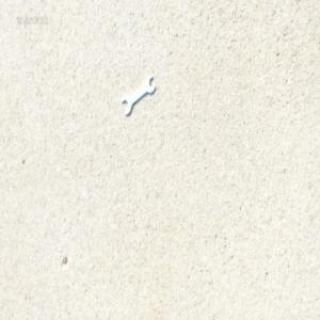Wrenchtrack_idkeyframe: (121, 73, 156, 114)
